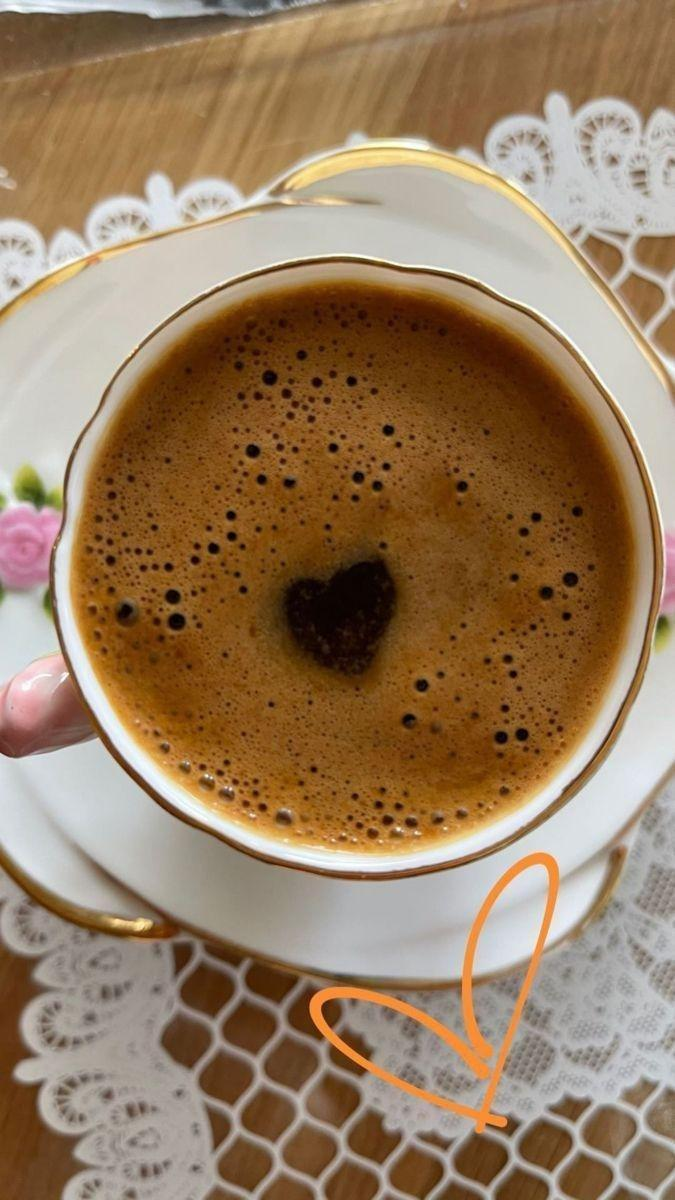cup-handle: (1, 256, 660, 880)
